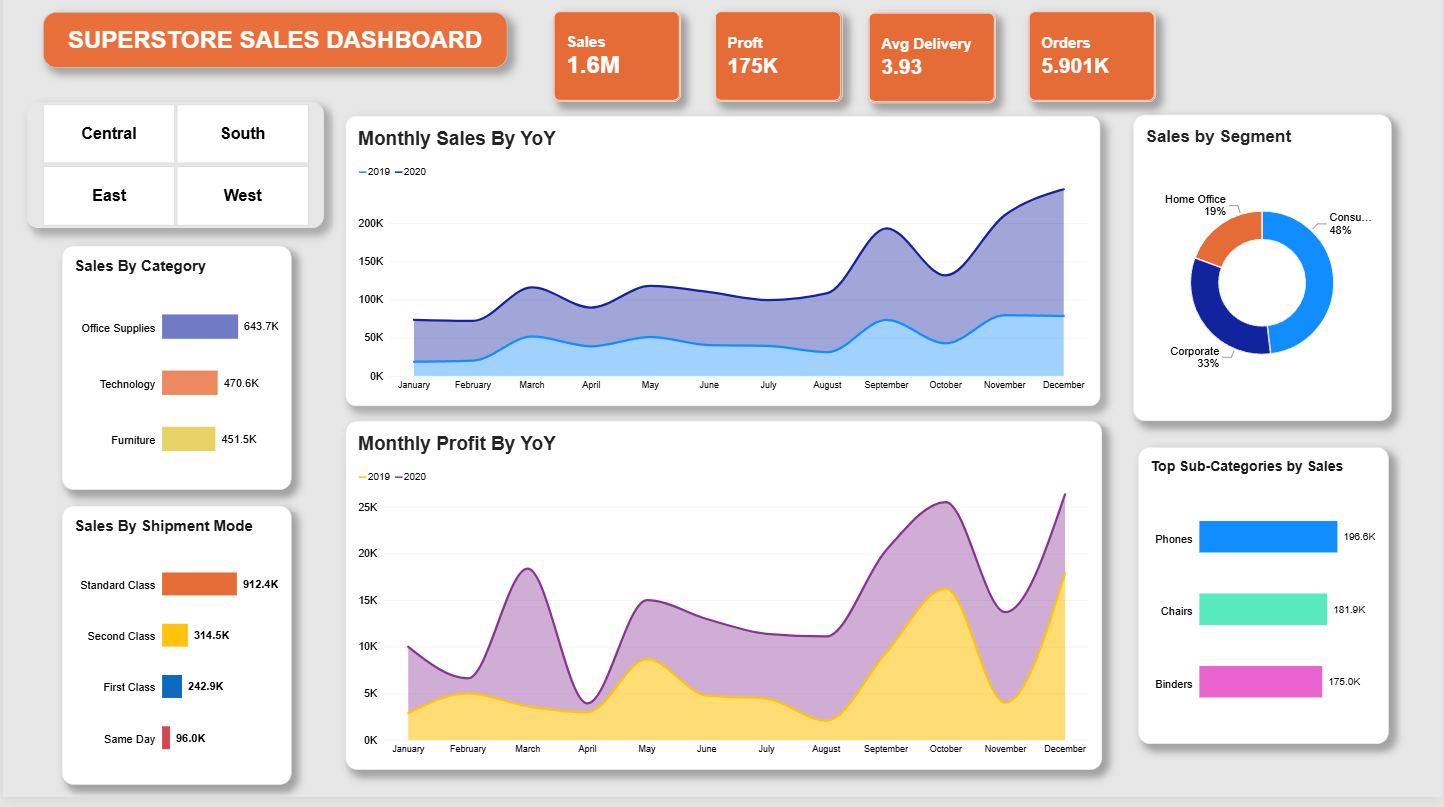

The page's visual inventory and layout, read from the dashboard file:
{"tool":"powerbi","page":{"name":"Dasboard","canvas":[1920,1080],"ordinal":0},"visuals":[{"type":"clusteredBarChart","title":"Sales By Category","fields":{"Category":["Sheet1.Category"],"Y":["Sum(Sheet1.Sales)"]},"box":[78.2,345.8,306.4,325.5],"z":0},{"type":"clusteredBarChart","title":"Top Sub-Categories by Sales","fields":{"Category":["Sheet1.Sub-Category"],"Y":["Sum(Sheet1.Sales)"]},"box":[1512.9,613.4,334,395.7],"z":1000},{"type":"clusteredBarChart","title":"Sales By Shipment Mode","fields":{"Y":["Sum(Sheet1.Sales)"],"Category":["Sheet1.Ship Mode"]},"box":[78.2,691.6,306.4,372.3],"z":2000},{"type":"stackedAreaChart","title":"Monthly Sales By YoY","fields":{"Y":["Sum(Sheet1.Sales)"],"Category":["Sheet1.Order Date.Variation.Date Hierarchy.Month"],"Series":["Sheet1.Order Date.Variation.Date Hierarchy.Year"]},"box":[456.9,170.8,1006.4,387.2],"z":3000},{"type":"stackedAreaChart","title":"Monthly Profit By YoY","fields":{"Category":["Sheet1.Order Date.Variation.Date Hierarchy.Month"],"Series":["Sheet1.Order Date.Variation.Date Hierarchy.Year"],"Y":["Sum(Sheet1.Profit)"]},"box":[456.9,578.4,1008.5,466],"z":4000},{"type":"donutChart","title":"Sales by Segment","fields":{"Y":["Sum(Sheet1.Sales)"],"Category":["Sheet1.Segment"]},"box":[1506.4,170.2,344.7,408.5],"z":5000},{"type":"slicer","fields":{"Values":["Sheet1.Region"]},"box":[31.9,153.2,395.7,168.1],"z":6000},{"type":"textbox","box":[53.5,32.9,619.1,74.5],"z":7000},{"type":"cardVisual","fields":{"Data":["Sum(Sheet1.Sales)"]},"box":[732.8,30.9,170.2,121.3],"z":8000},{"type":"cardVisual","title":" Profit","fields":{"Data":["Sum(Sheet1.Profit)"]},"box":[948.9,30.9,170.8,121.4],"z":9000},{"type":"cardVisual","fields":{"Data":["Avg(Sheet1.Avg Delivery)"]},"box":[1152.7,32.9,170.2,121.3],"z":10000},{"type":"cardVisual","fields":{"Data":["CountNonNull(Sheet1.Order ID)"]},"box":[1366.7,30.9,170.2,121.3],"z":11000}]}

Visuals, with their boxes in screenshot pixels (x1, y1, x2, y2), scaled from the page's 1920x1080 canvas onto the 1444x807 screenshot:
"Sales By Category" clusteredBarChart: crop(59, 258, 289, 502)
"Top Sub-Categories by Sales" clusteredBarChart: crop(1138, 458, 1389, 754)
"Sales By Shipment Mode" clusteredBarChart: crop(59, 517, 289, 795)
"Monthly Sales By YoY" stackedAreaChart: crop(344, 128, 1101, 417)
"Monthly Profit By YoY" stackedAreaChart: crop(344, 432, 1102, 780)
"Sales by Segment" donutChart: crop(1133, 127, 1392, 432)
slicer - Sheet1.Region: crop(24, 114, 322, 240)
textbox: crop(40, 25, 506, 80)
cardVisual - Sum(Sheet1.Sales): crop(551, 23, 679, 114)
" Profit" cardVisual: crop(714, 23, 842, 114)
cardVisual - Avg(Sheet1.Avg Delivery): crop(867, 25, 995, 115)
cardVisual - CountNonNull(Sheet1.Order ID): crop(1028, 23, 1156, 114)
